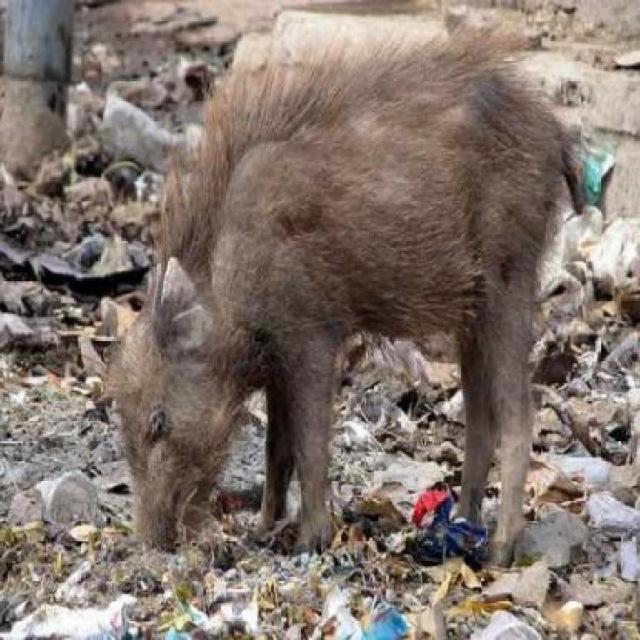pig: (74, 63, 587, 557)
